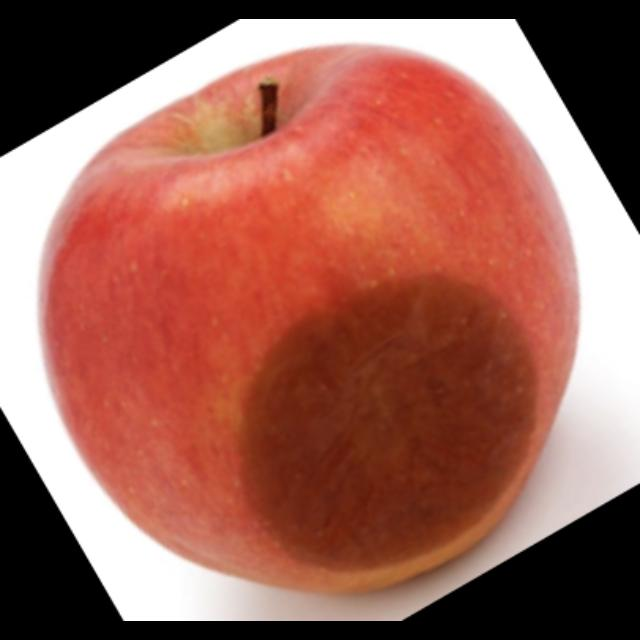Apel Tidak Segar: (28, 38, 610, 612)
